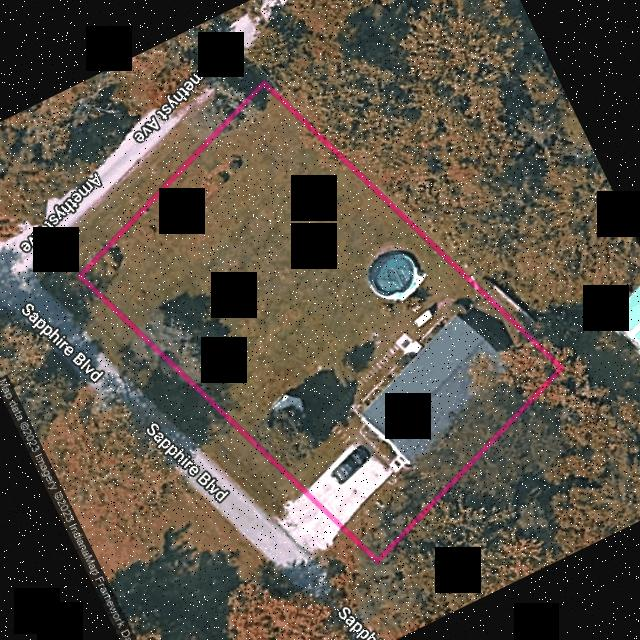Driveway: (307, 434, 392, 524)
Extra Driveway: (278, 493, 338, 551)
Extra Lawn: (37, 58, 304, 520)
House: (363, 316, 505, 470)
Other: (367, 249, 425, 299), (273, 393, 304, 411), (395, 332, 421, 353), (388, 453, 407, 471)
Sidewalk: (320, 342, 399, 446)
